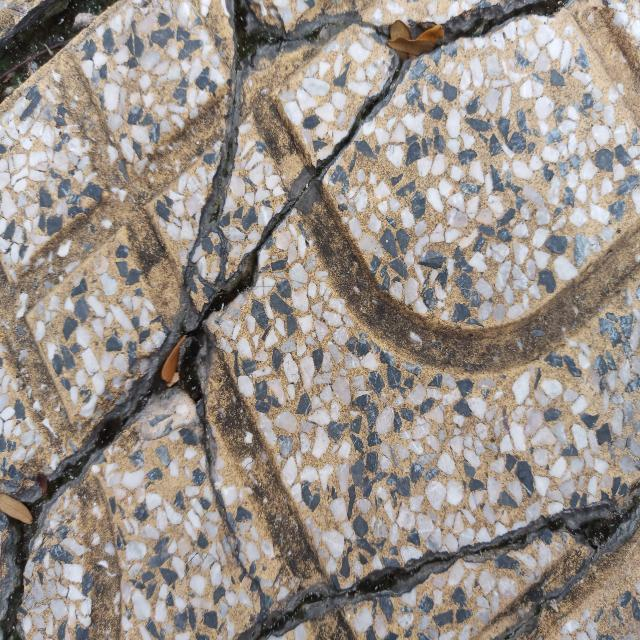network cracks: (0, 0, 639, 639)
